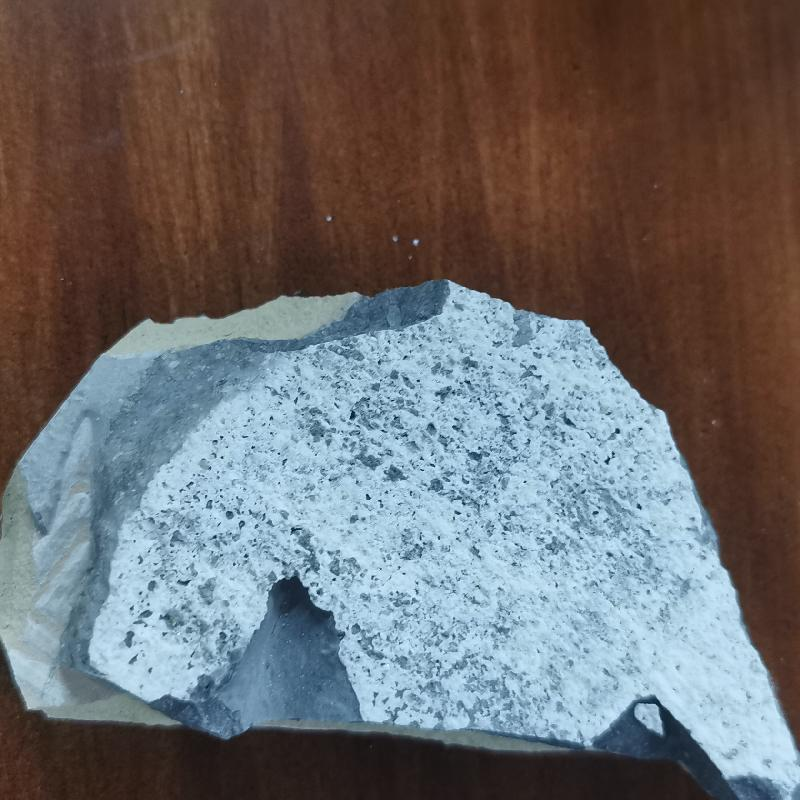tile: (1, 281, 799, 799)
